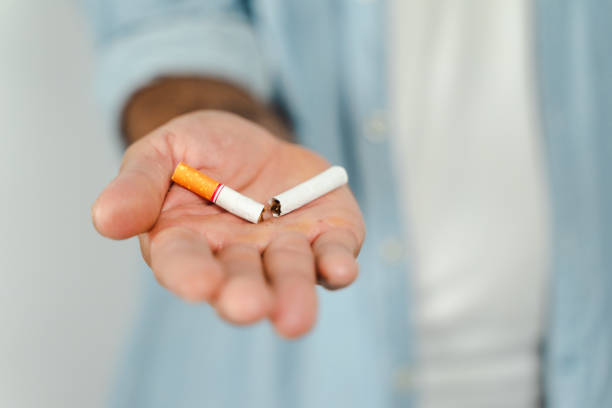cigarette: (170, 163, 266, 223), (271, 163, 352, 216)
